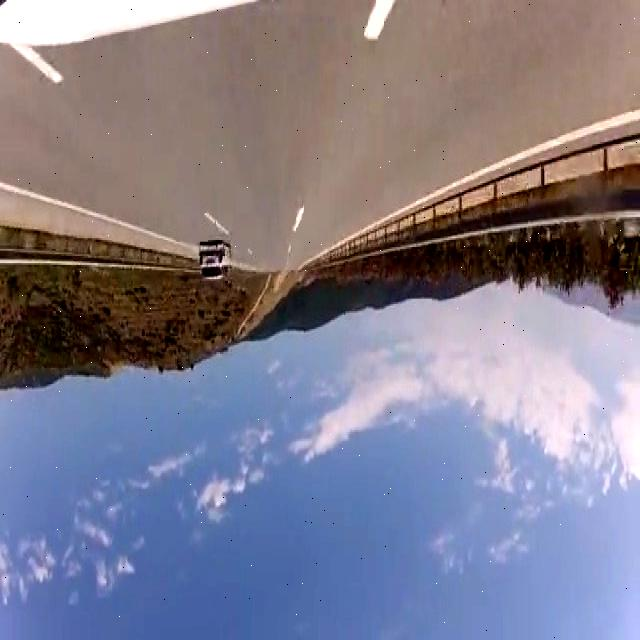lane: (361, 108, 640, 230), (0, 183, 94, 212), (11, 43, 64, 82), (365, 1, 394, 38), (365, 3, 392, 40), (105, 19, 132, 32), (65, 31, 92, 41)
road: (3, 1, 638, 272)
